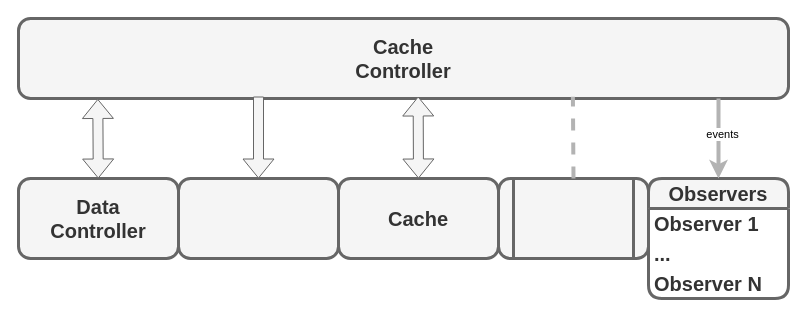
Image size: 807x317. Some labels were removed from this diagram. The shapes that lost their labels are listed below. From the top down, each one's centre as x and y in pixels, then its label:
point (258, 218): Updates Pool
point (573, 218): Monitoring Task
